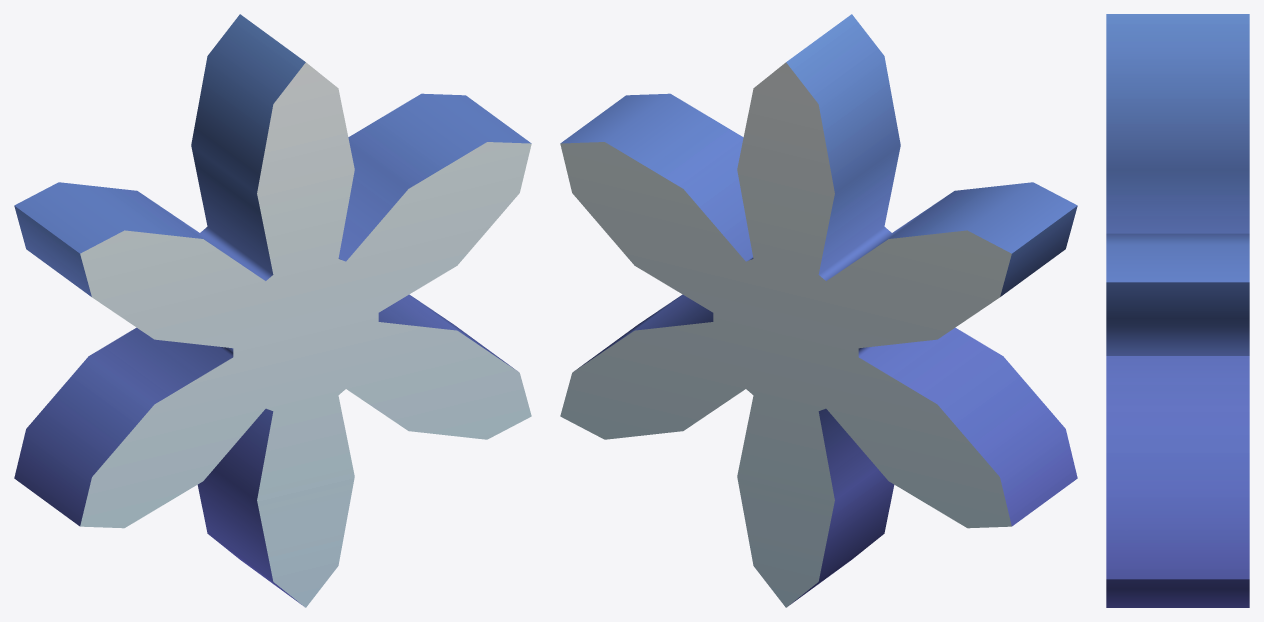
The model's file is kenney-holiday-snowflake-c.glb.
The picture shows the model from 3 angles, left to right: view 1: azimuth 30°, elevation 25°; view 2: azimuth 150°, elevation 25°; view 3: azimuth 270°, elevation 25°; orthographic projection. The views are drawn at different scales.
Visible parts, largest first — view 1: snowflake-c; view 2: snowflake-c; view 3: snowflake-c.
Boxes of the visible parts, x1=… form: snowflake-c: x1=14, y1=14, x2=531, y2=607; snowflake-c: x1=560, y1=14, x2=1077, y2=607; snowflake-c: x1=1106, y1=14, x2=1249, y2=607.
Size of the model in its own units: 0.3464 by 0.4 by 0.0875.
Materials: 1 (1 with a texture image).
